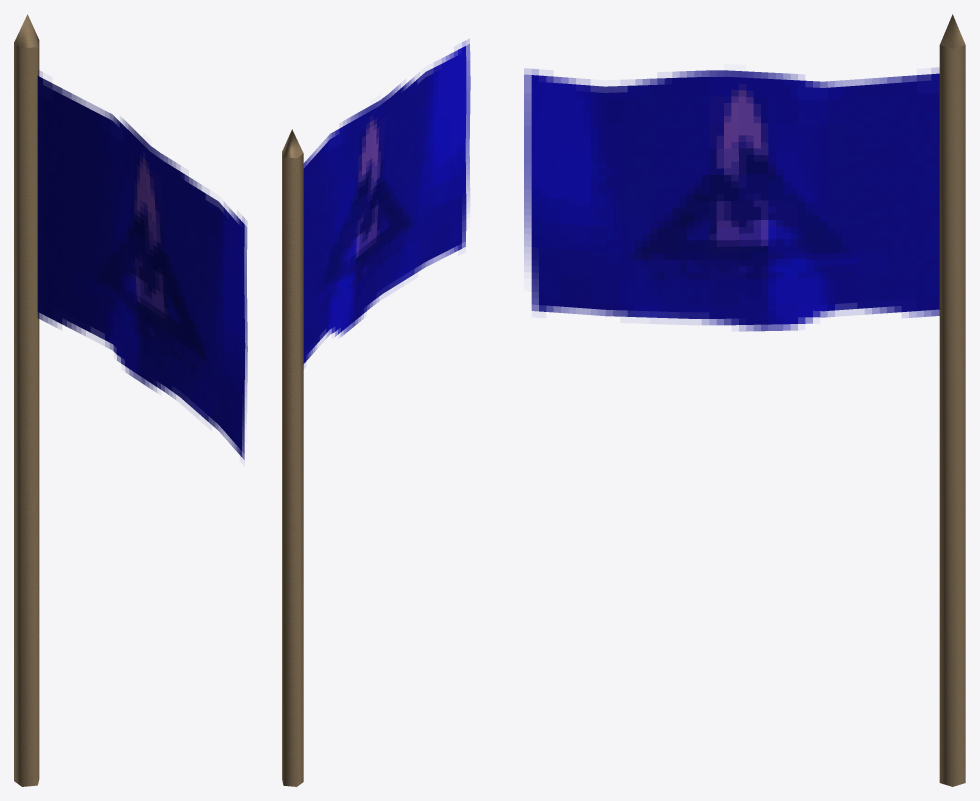
Rendered from Flagblu.glb.
The picture shows the model from 3 angles, left to right: view 1: azimuth 30°, elevation 25°; view 2: azimuth 150°, elevation 25°; view 3: azimuth 270°, elevation 25°; orthographic projection. The views are drawn at different scales.
Parts seen in each view (by area): view 1: _Flagblu; view 2: _Flagblu; view 3: _Flagblu.
Boxes of the visible parts, bbox=[...] form: _Flagblu: bbox=[14, 14, 247, 786]; _Flagblu: bbox=[282, 39, 470, 786]; _Flagblu: bbox=[524, 14, 965, 786].
Bounding box in the file's own units: 0.0449 × 0.9618 × 0.5206.
Materials: 2 (2 with a texture image).
